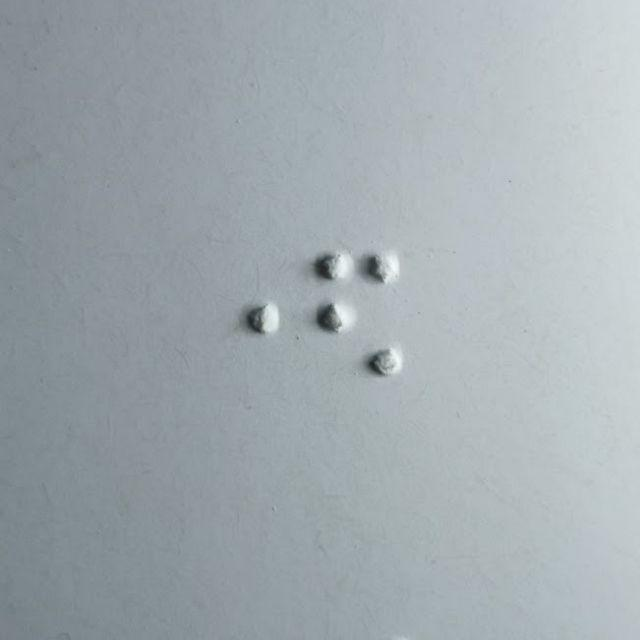dot_5: (197, 248, 282, 379)
nawa: (317, 249, 402, 380)
